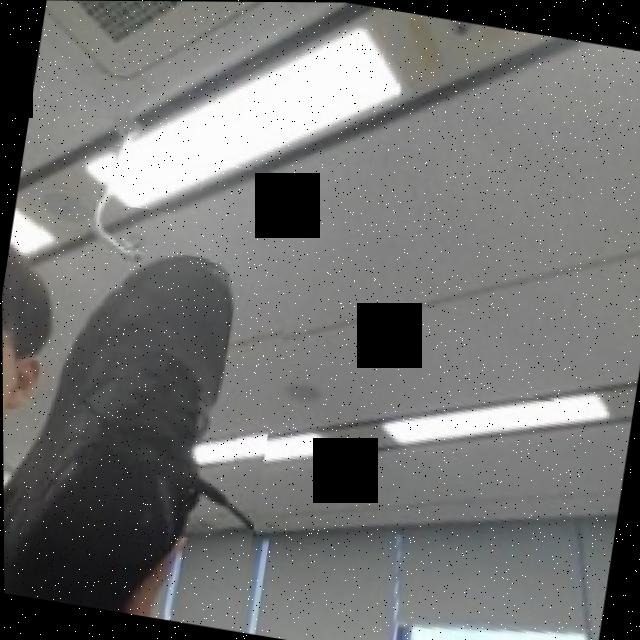shoe: (1, 188, 301, 632)
